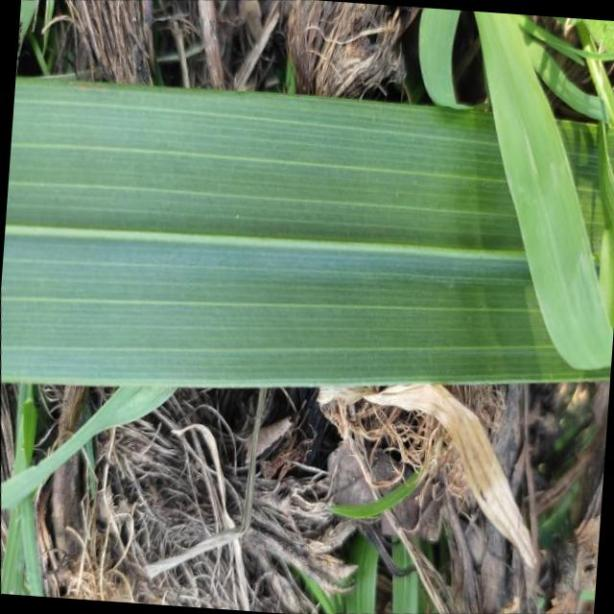Healthy: (0, 74, 614, 390)
